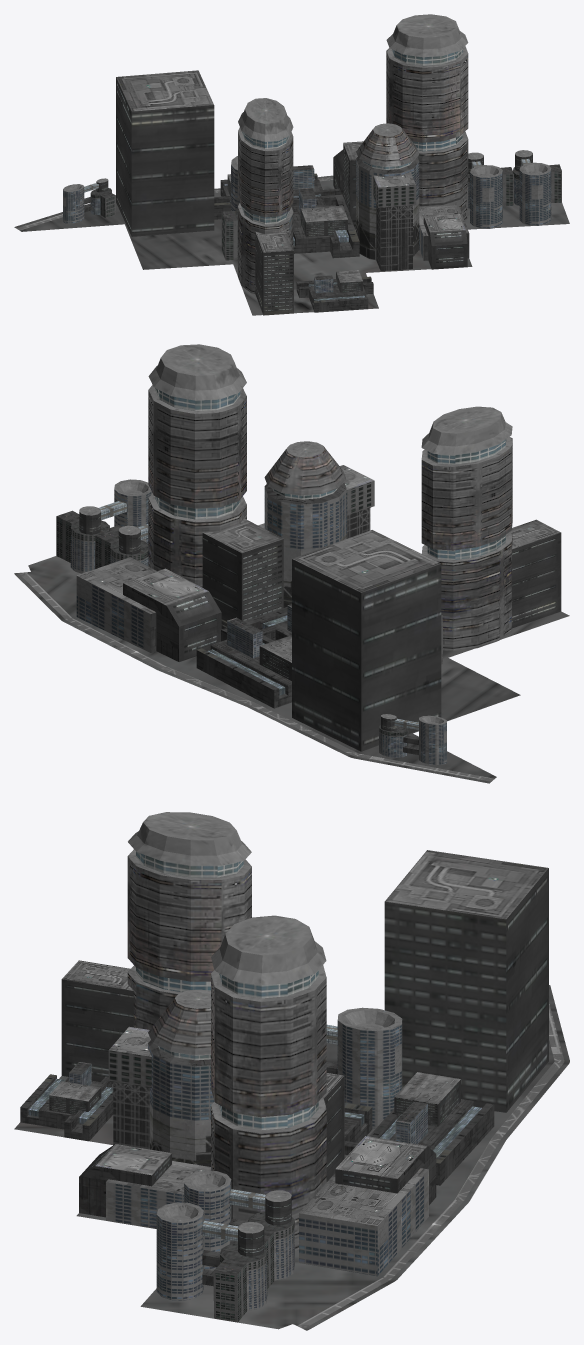
The model's file is my_city_0.fbx.
3 views of the same model, one above another, from view 1: azimuth 30°, elevation 25°; view 2: azimuth 150°, elevation 25°; view 3: azimuth 270°, elevation 25° (orthographic). The views are drawn at different scales.
Parts seen in each view (by area): view 1: BuildingMaterial_m_1, BuildingMaterial_m_12, BuildingMaterial_m_4, CityEngineMaterial_1_m, BuildingMaterial_m_8, BuildingMaterial_m_7, BuildingMaterial_m_9, BuildingMaterial_m_11, BuildingMaterial_m_10, BuildingMaterial_m_5, BuildingMaterial_m_3, BuildingMaterial_m (+2 smaller); view 2: BuildingMaterial_m_1, BuildingMaterial_m_12, BuildingMaterial_m_4, BuildingMaterial_m_2, CityEngineMaterial_1_m, BuildingMaterial_m_8, BuildingMaterial_m, BuildingMaterial_m_11, BuildingMaterial_m_3, CityEngineMaterial_m, BuildingMaterial_m_10, BuildingMaterial_m_7; view 3: BuildingMaterial_m_1, BuildingMaterial_m_12, BuildingMaterial_m_4, BuildingMaterial_m_8, BuildingMaterial_m_2, CityEngineMaterial_1_m, BuildingMaterial_m_11, BuildingMaterial_m, BuildingMaterial_m_9, BuildingMaterial_m_6, BuildingMaterial_m_10, BuildingMaterial_m_5 (+2 smaller).
Boxes of the visible parts, bbox=[...] form: BuildingMaterial_m_1: bbox=[116, 70, 214, 236]; BuildingMaterial_m_12: bbox=[343, 14, 468, 229]; BuildingMaterial_m_4: bbox=[238, 98, 293, 315]; CityEngineMaterial_1_m: bbox=[14, 175, 569, 315]; BuildingMaterial_m_8: bbox=[356, 123, 419, 270]; BuildingMaterial_m_7: bbox=[291, 187, 359, 258]; BuildingMaterial_m_9: bbox=[419, 205, 469, 269]; BuildingMaterial_m_11: bbox=[513, 150, 561, 225]; BuildingMaterial_m_10: bbox=[468, 152, 513, 228]; BuildingMaterial_m_5: bbox=[296, 270, 373, 312]; BuildingMaterial_m_3: bbox=[63, 178, 115, 223]; BuildingMaterial_m: bbox=[214, 165, 342, 219]; BuildingMaterial_m_1: bbox=[292, 530, 441, 751]; BuildingMaterial_m_12: bbox=[148, 344, 283, 629]; BuildingMaterial_m_4: bbox=[421, 406, 561, 651]; BuildingMaterial_m_2: bbox=[76, 557, 221, 661]; CityEngineMaterial_1_m: bbox=[14, 556, 569, 783]; BuildingMaterial_m_8: bbox=[264, 441, 374, 607]; BuildingMaterial_m: bbox=[196, 617, 291, 708]; BuildingMaterial_m_11: bbox=[56, 479, 152, 573]; BuildingMaterial_m_3: bbox=[379, 714, 446, 765]; CityEngineMaterial_m: bbox=[19, 572, 494, 781]; BuildingMaterial_m_10: bbox=[95, 524, 148, 568]; BuildingMaterial_m_7: bbox=[244, 604, 291, 640]; BuildingMaterial_m_1: bbox=[384, 850, 548, 1112]; BuildingMaterial_m_12: bbox=[211, 915, 344, 1251]; BuildingMaterial_m_4: bbox=[61, 812, 251, 1083]; BuildingMaterial_m_8: bbox=[108, 989, 214, 1166]; BuildingMaterial_m_2: bbox=[299, 1136, 436, 1276]; CityEngineMaterial_1_m: bbox=[14, 985, 569, 1330]; BuildingMaterial_m_11: bbox=[156, 1202, 267, 1322]; BuildingMaterial_m: bbox=[369, 1072, 494, 1185]; BuildingMaterial_m_9: bbox=[79, 1144, 210, 1228]; BuildingMaterial_m_6: bbox=[326, 1007, 402, 1128]; BuildingMaterial_m_10: bbox=[184, 1170, 294, 1288]; BuildingMaterial_m_5: bbox=[20, 1062, 113, 1141].
Bounding box in the file's own units: 289 × 116 × 198.
